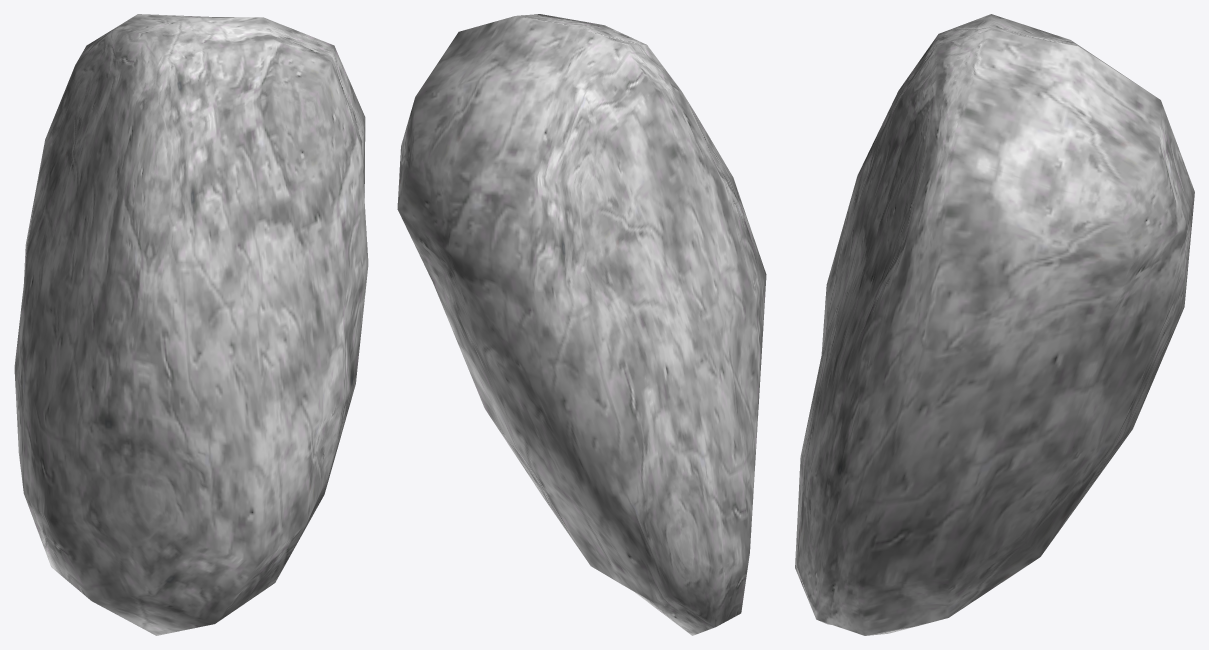
File: INST_SWORDLIGHT_ROCKE.fbx
3 views of the same model, side by side, from view 1: azimuth 30°, elevation 25°; view 2: azimuth 150°, elevation 25°; view 3: azimuth 270°, elevation 25° (orthographic). The views are drawn at different scales.
Visible parts, largest first — view 1: INST_SWORDLIGHT_ROCKE; view 2: INST_SWORDLIGHT_ROCKE; view 3: INST_SWORDLIGHT_ROCKE.
Part boxes in pixels (x1,y1,x2,y2): INST_SWORDLIGHT_ROCKE: (14, 14, 368, 635); INST_SWORDLIGHT_ROCKE: (397, 14, 766, 635); INST_SWORDLIGHT_ROCKE: (795, 14, 1194, 635).
Size of the model in its own units: 15130 by 26983 by 15130.
Materials: 1 (1 with a texture image).
